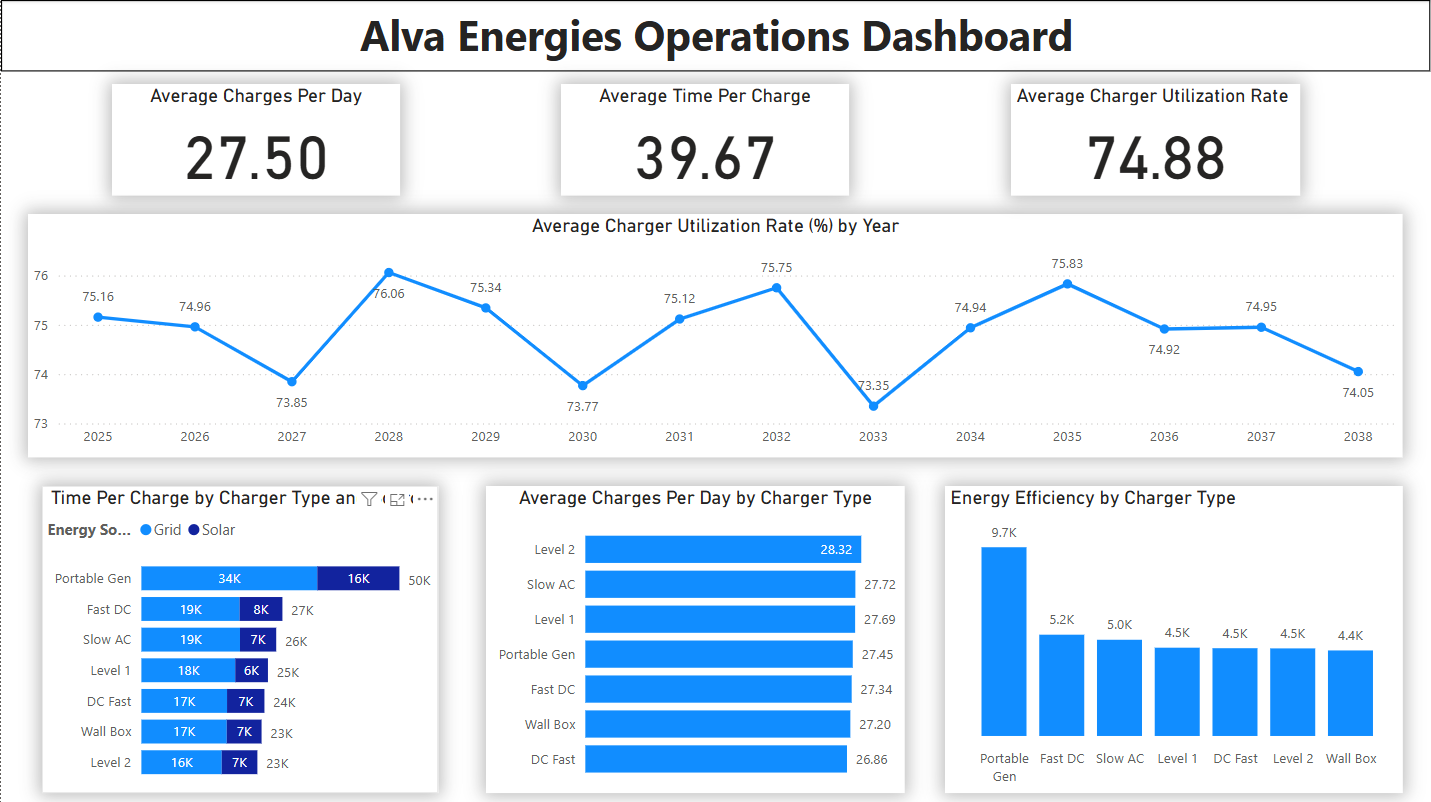

What the dashboard file says about the page in this screenshot:
{"tool":"powerbi","page":{"name":"Operations","canvas":[1280,720],"ordinal":3},"visuals":[{"type":"textbox","box":[0,0,1279.7,63.6],"z":0},{"type":"card","title":"Average Charges Per Day","fields":{"Values":["Avg(cleaned_output(from hadoop).Charges per Day)"]},"box":[99.4,75.2,258,100.3],"z":1000},{"type":"card","title":"Average Time Per Charge","fields":{"Values":["Avg(cleaned_output(from hadoop).Avg Time per Charge (min))"]},"box":[501.5,75.2,257.9,100.3],"z":2000},{"type":"lineChart","title":"Average Charger Utilization Rate  (%) by Year","fields":{"Category":["cleaned_output(from hadoop).Date.Variation.Date Hierarchy.Year"],"Y":["Avg(cleaned_output(from hadoop).Charger Utilization Rate (%))"]},"box":[24.2,191.6,1231.3,217.6],"z":3000},{"type":"barChart","title":"Time Per Charge by Charger Type and Source","fields":{"Category":["cleaned_output(from hadoop).Charger Type"],"Y":["Sum(cleaned_output(from hadoop).Avg Time per Charge (min))"],"Series":["cleaned_output(from hadoop).Energy Source"]},"box":[36.7,435.2,354.6,274.9],"z":4000},{"type":"card","title":"Average Charger Utilization Rate","fields":{"Values":["Avg(cleaned_output(from hadoop).Charger Utilization Rate (%))"]},"box":[904.5,75.2,258.8,100.3],"z":5000},{"type":"barChart","title":"Average Charges Per Day by Charger Type","fields":{"Category":["cleaned_output(from hadoop).Charger Type"],"Y":["Avg(cleaned_output(from hadoop).Charges per Day)"]},"box":[434.3,435.2,375.2,274.9],"z":6000},{"type":"columnChart","title":"Energy Efficiency by Charger Type","fields":{"Category":["cleaned_output(from hadoop).Charger Type"],"Y":["Sum(cleaned_output(from hadoop).Energy Efficiency)"]},"box":[845.4,435.2,410.1,274.9],"z":6001}]}

Visuals, with their boxes in screenshot pixels (x1, y1, x2, y2), scaled from the page's 1280x720 canvas onto the 1431x802 screenshot:
textbox: x1=0, y1=0, x2=1430, y2=71
"Average Charges Per Day" card: x1=111, y1=84, x2=400, y2=195
"Average Time Per Charge" card: x1=561, y1=84, x2=849, y2=195
"Average Charger Utilization Rate  (%) by Year" lineChart: x1=27, y1=213, x2=1404, y2=456
"Time Per Charge by Charger Type and Source" barChart: x1=41, y1=485, x2=437, y2=791
"Average Charger Utilization Rate" card: x1=1011, y1=84, x2=1301, y2=195
"Average Charges Per Day by Charger Type" barChart: x1=486, y1=485, x2=905, y2=791
"Energy Efficiency by Charger Type" columnChart: x1=945, y1=485, x2=1404, y2=791
